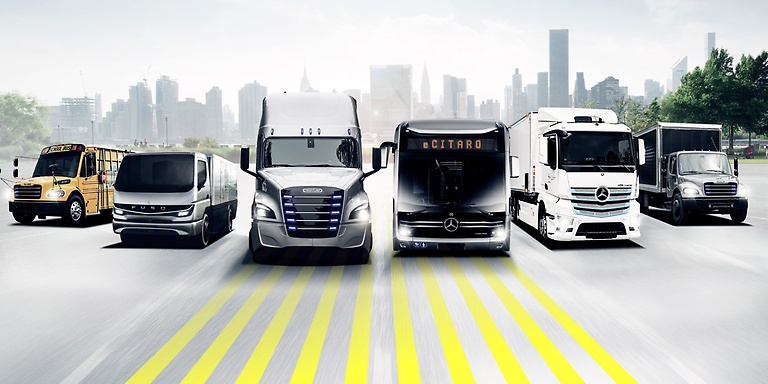truckq: (231, 76, 373, 293), (385, 82, 523, 276), (530, 95, 648, 284), (117, 129, 227, 271), (651, 111, 758, 235), (12, 100, 112, 228), (12, 100, 113, 226)
